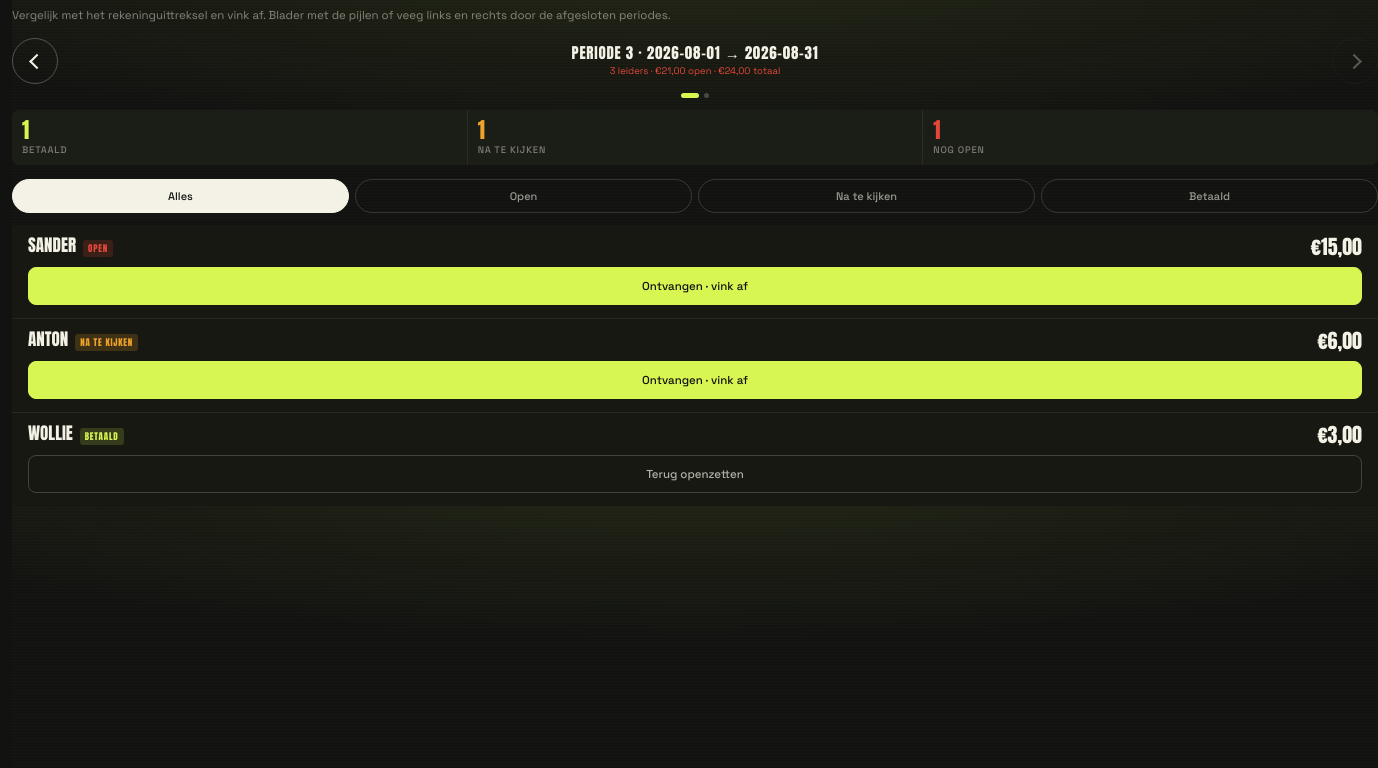
AC5: de filterrij beperkt de lijst tot Open / Na te kijken / Betaald
Click the text "Na te kijken" at (866, 196), box [698, 179, 1035, 213]
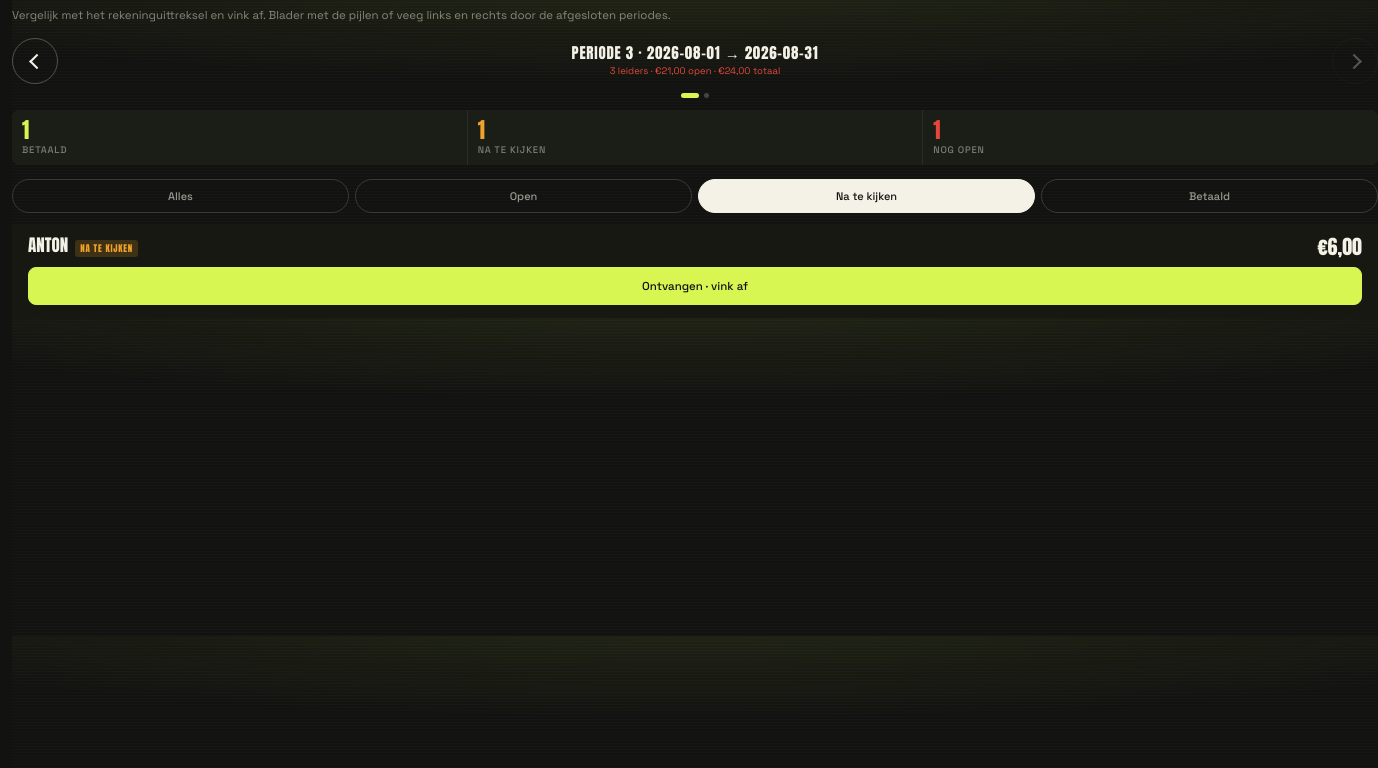
Check: the text "Anton" is shown, box [28, 237, 68, 254]
Check: the text "Sander" is gone
Check: the text "Wollie" is gone
Click the text "Betaald" at (1210, 196), box [1041, 179, 1377, 213]
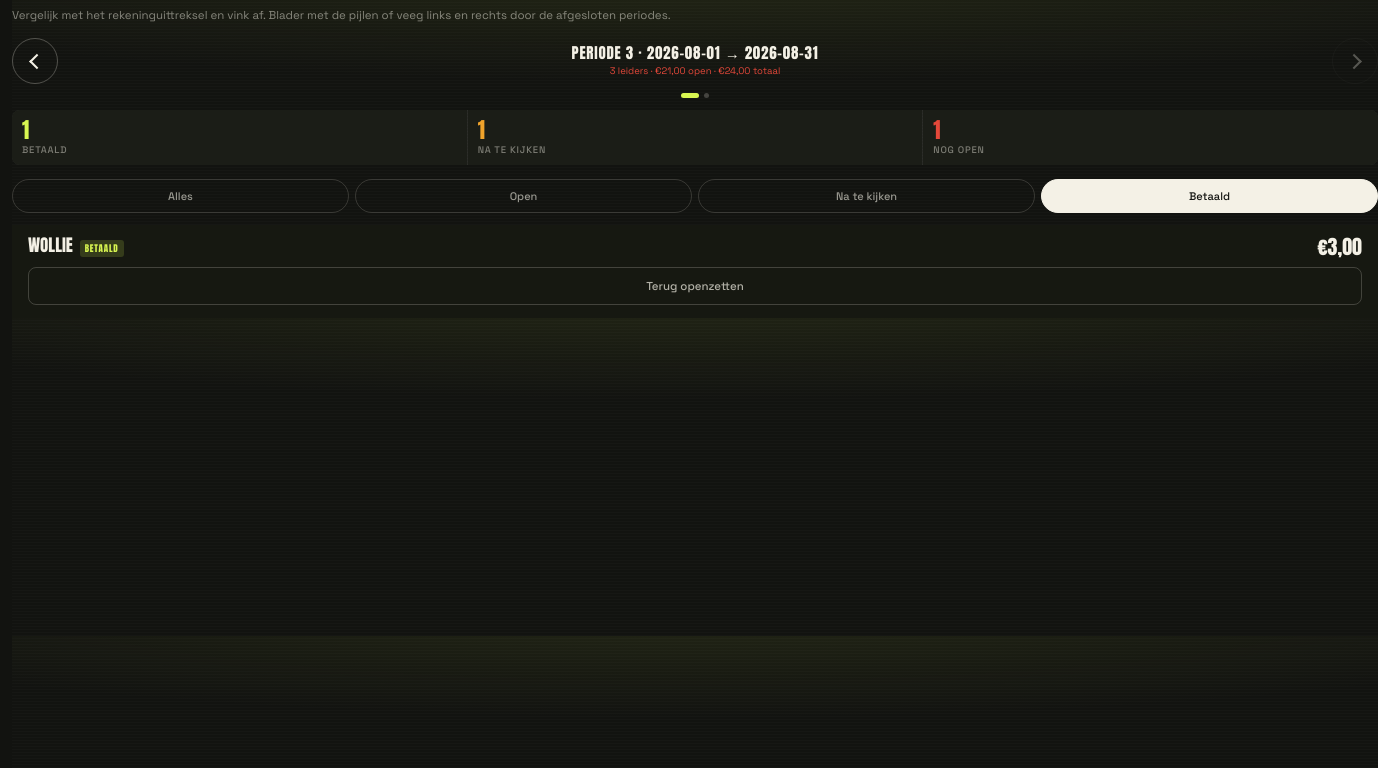
Check: the text "Wollie" is shown, box [28, 237, 73, 254]
Check: the text "Anton" is gone
Click the text "Open" at (524, 196), box [355, 179, 692, 213]
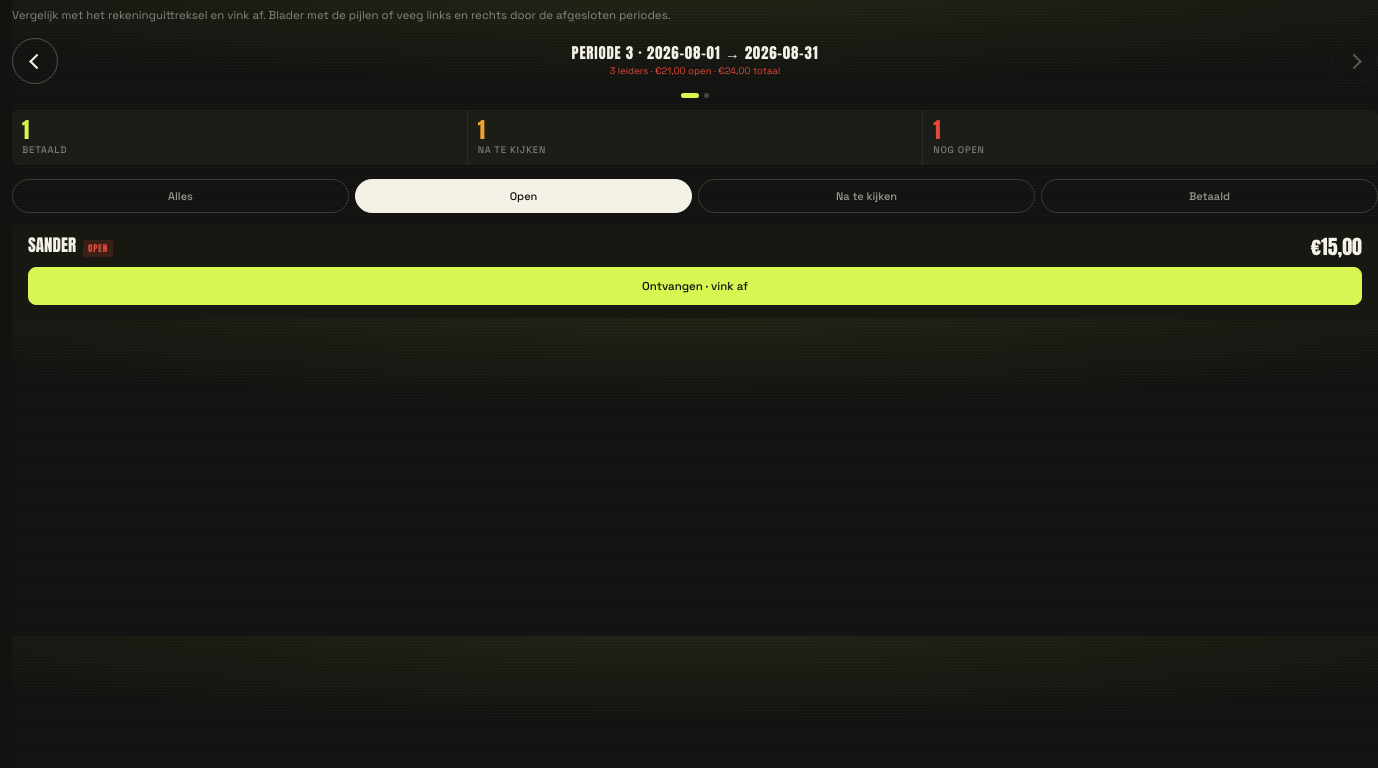
Check: the text "Anton" is not shown
Check: the text "Sander" is shown, box [28, 237, 76, 254]
Click the text "Alles" at (180, 196), box [12, 179, 349, 213]
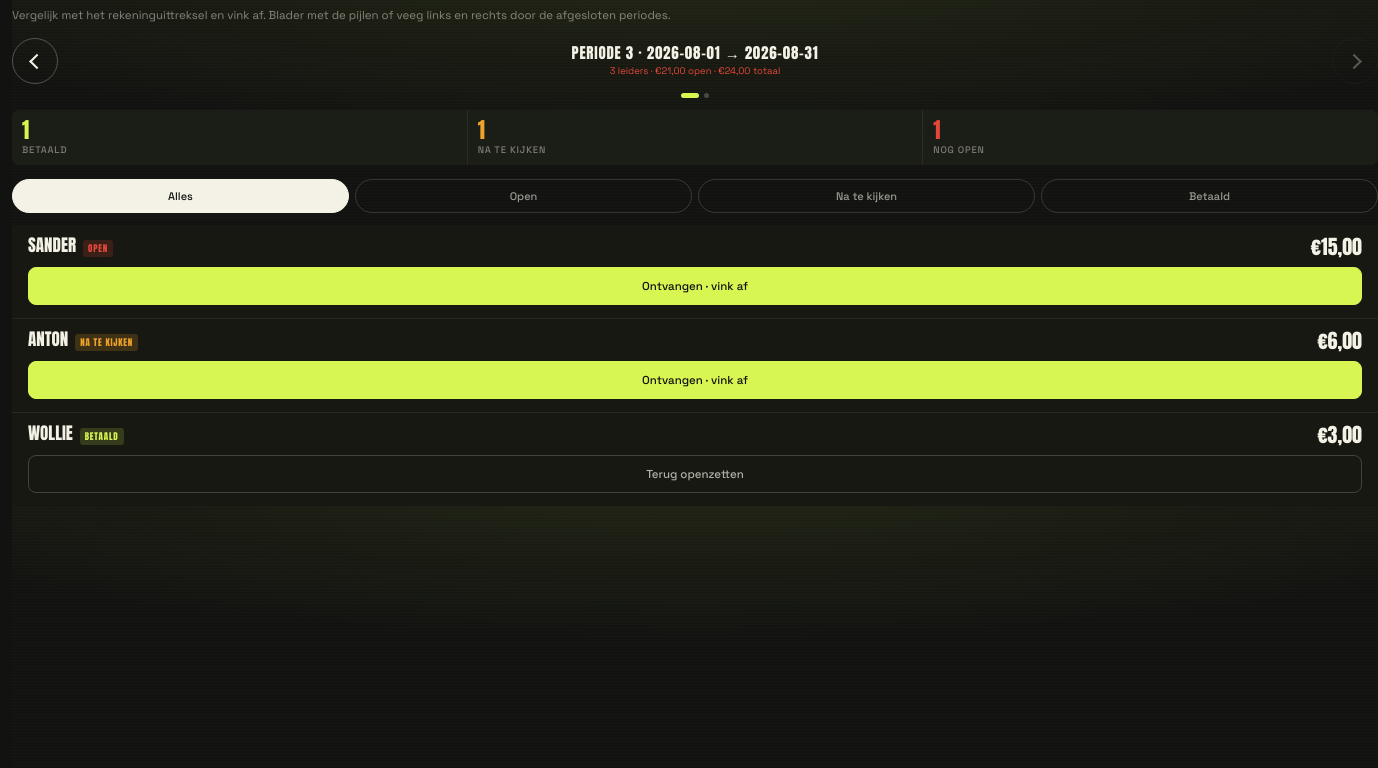
Check: the text "Sander" is shown, box [28, 237, 76, 254]
Check: the text "Anton" is shown, box [28, 331, 68, 348]
Check: the text "Wollie" is shown, box [28, 425, 73, 442]
